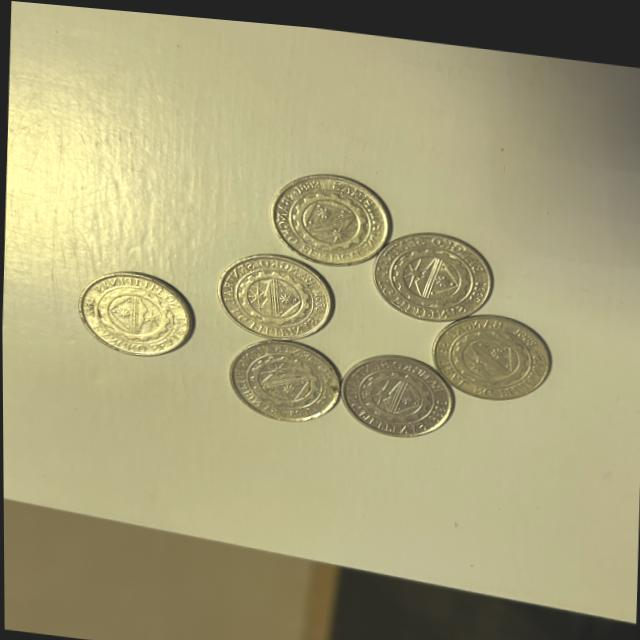1_Old_Back: (236, 336, 331, 413), (386, 235, 483, 308), (286, 178, 379, 253), (444, 312, 538, 384), (346, 351, 437, 424), (229, 259, 320, 328), (93, 281, 178, 347)
